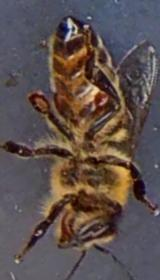varroa_mite: (84, 78, 114, 115)
